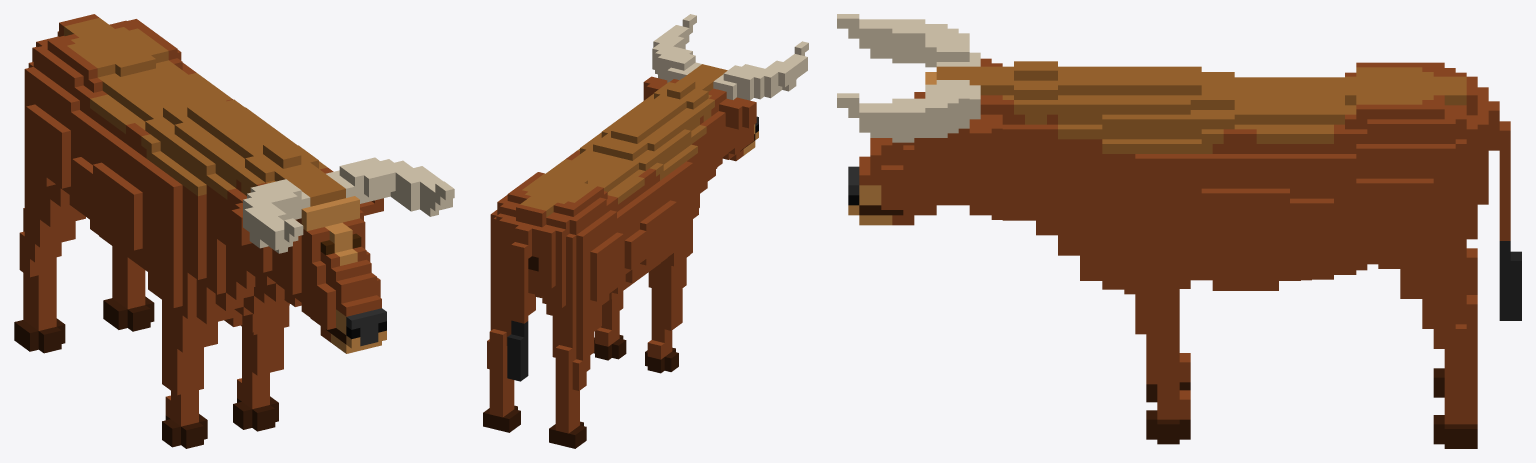
File: auroch.fbx
3 renders of one model, left to right at view 1: azimuth 30°, elevation 25°; view 2: azimuth 150°, elevation 25°; view 3: azimuth 270°, elevation 25°, orthographic. The views are drawn at different scales.
Visible parts, largest first — view 1: auroch; view 2: auroch; view 3: auroch.
Part boxes in pixels (<box>): auroch: <box>14,14,454,448</box>; auroch: <box>483,14,808,448</box>; auroch: <box>837,14,1521,448</box>.
Bounding box in the file's own units: 20 × 36 × 62.
